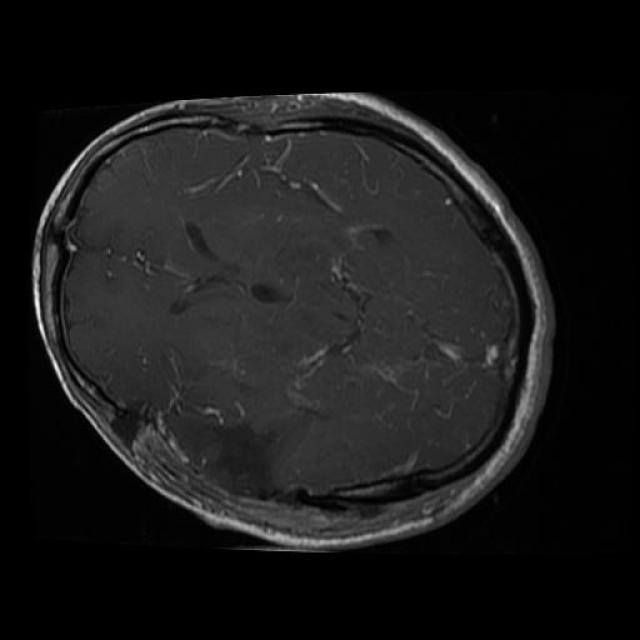Glioma: (111, 406, 363, 538)
